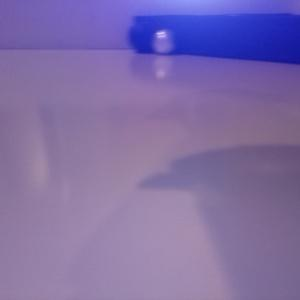alive_ball: (151, 28, 175, 55)
dead_ball: (127, 22, 154, 52)
